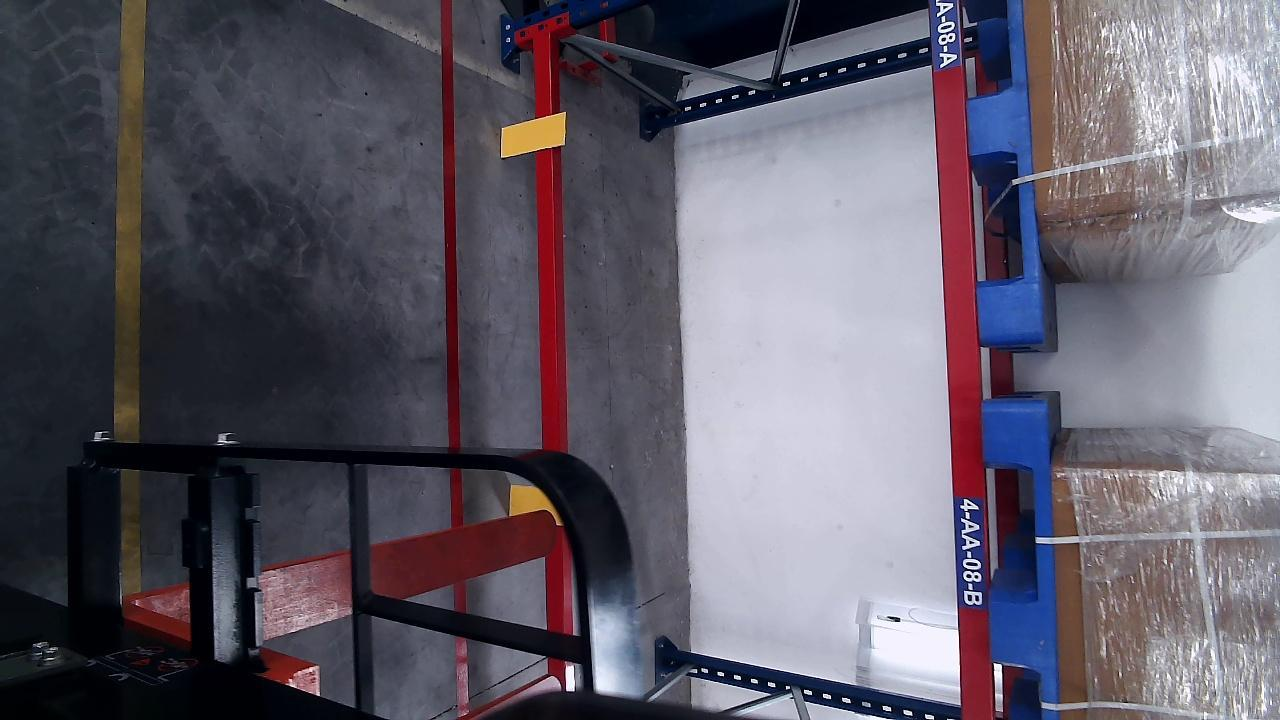h_rack: (530, 33, 558, 451)
orange_strip: (502, 113, 569, 158)
red_line: (441, 1, 467, 720)
small_pallet: (984, 407, 1066, 720)
yellow_line: (118, 2, 150, 596)
